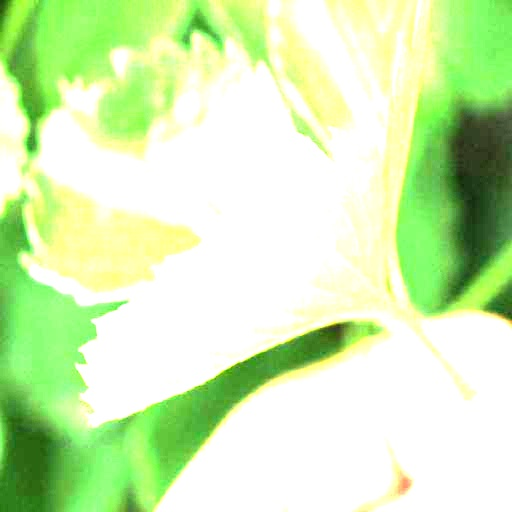Powdery Mildew Leaf: (74, 125, 398, 426)
